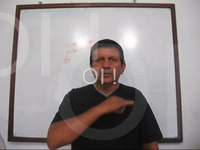oi: (103, 93, 136, 113)
